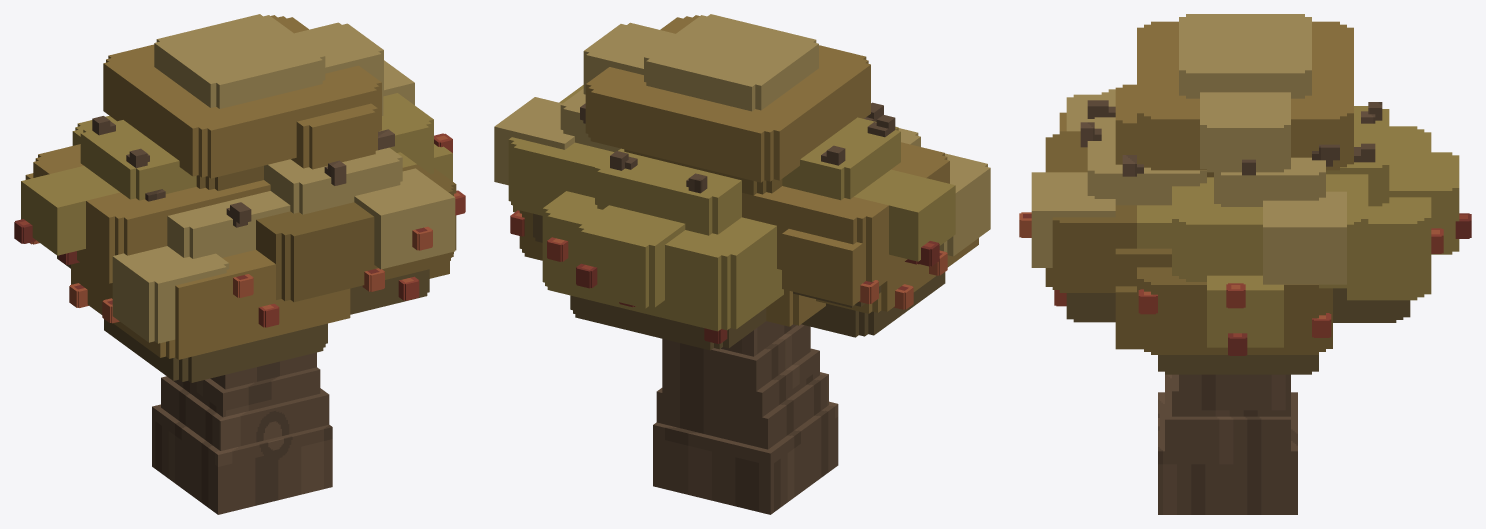
File: apple_ancient_autumn_fruiting.glb
3 renders of one model, left to right at view 1: azimuth 30°, elevation 25°; view 2: azimuth 150°, elevation 25°; view 3: azimuth 270°, elevation 25°, orthographic. The views are drawn at different scales.
Visible parts, largest first — view 1: VoxelVisual; view 2: VoxelVisual; view 3: VoxelVisual.
Boxes of the visible parts, x1,y1,x2,y2 form: VoxelVisual: [14, 14, 465, 514]; VoxelVisual: [494, 14, 990, 514]; VoxelVisual: [1019, 14, 1471, 514].
Size of what is drawn, in the model's own units: 18.12 by 17.5 by 16.12.
